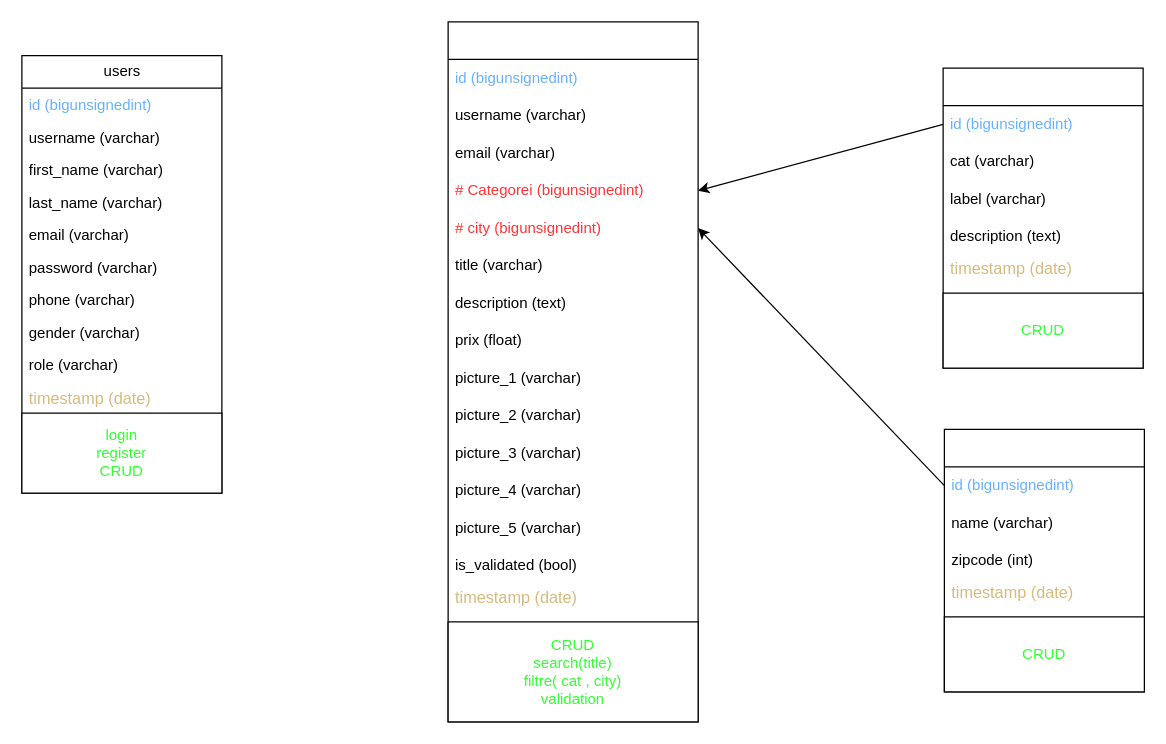
Image size: 1166x744. Some labels were removed from this diagram. The shapes that lost their labels are listed below. From the top down, each one's box as (x1, y1, x2, y2) in pixels, then its label:
(942, 67, 1143, 368): category
(447, 21, 698, 722): announcement
(943, 428, 1144, 692): city
